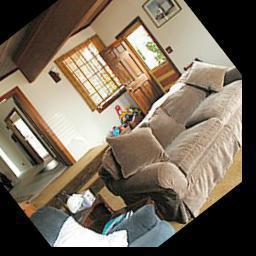Puerta: (98, 36, 163, 109)
